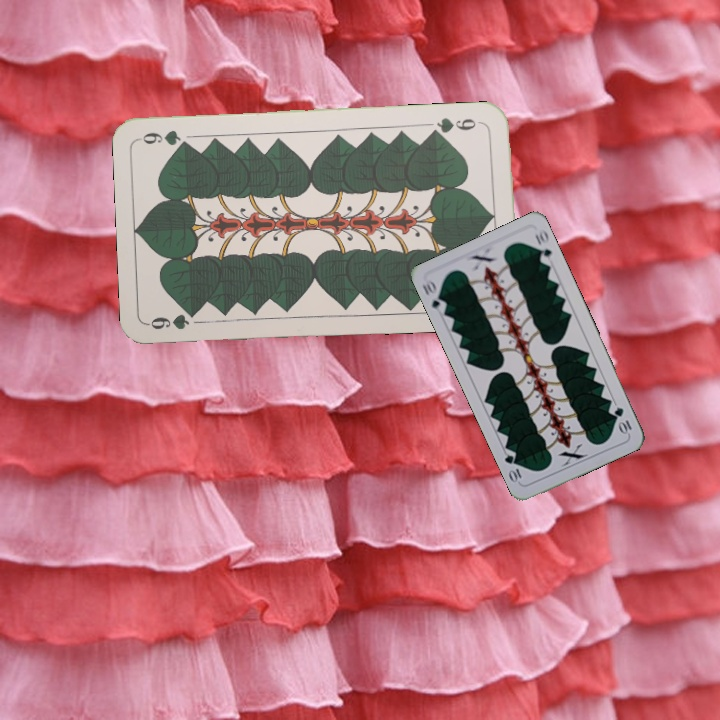G10: (418, 277, 449, 313), (610, 403, 634, 437)
G9: (145, 306, 202, 332), (427, 114, 486, 138)
